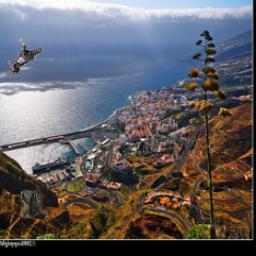Crow: (7, 38, 43, 74)
Swallow: (20, 191, 47, 220)
